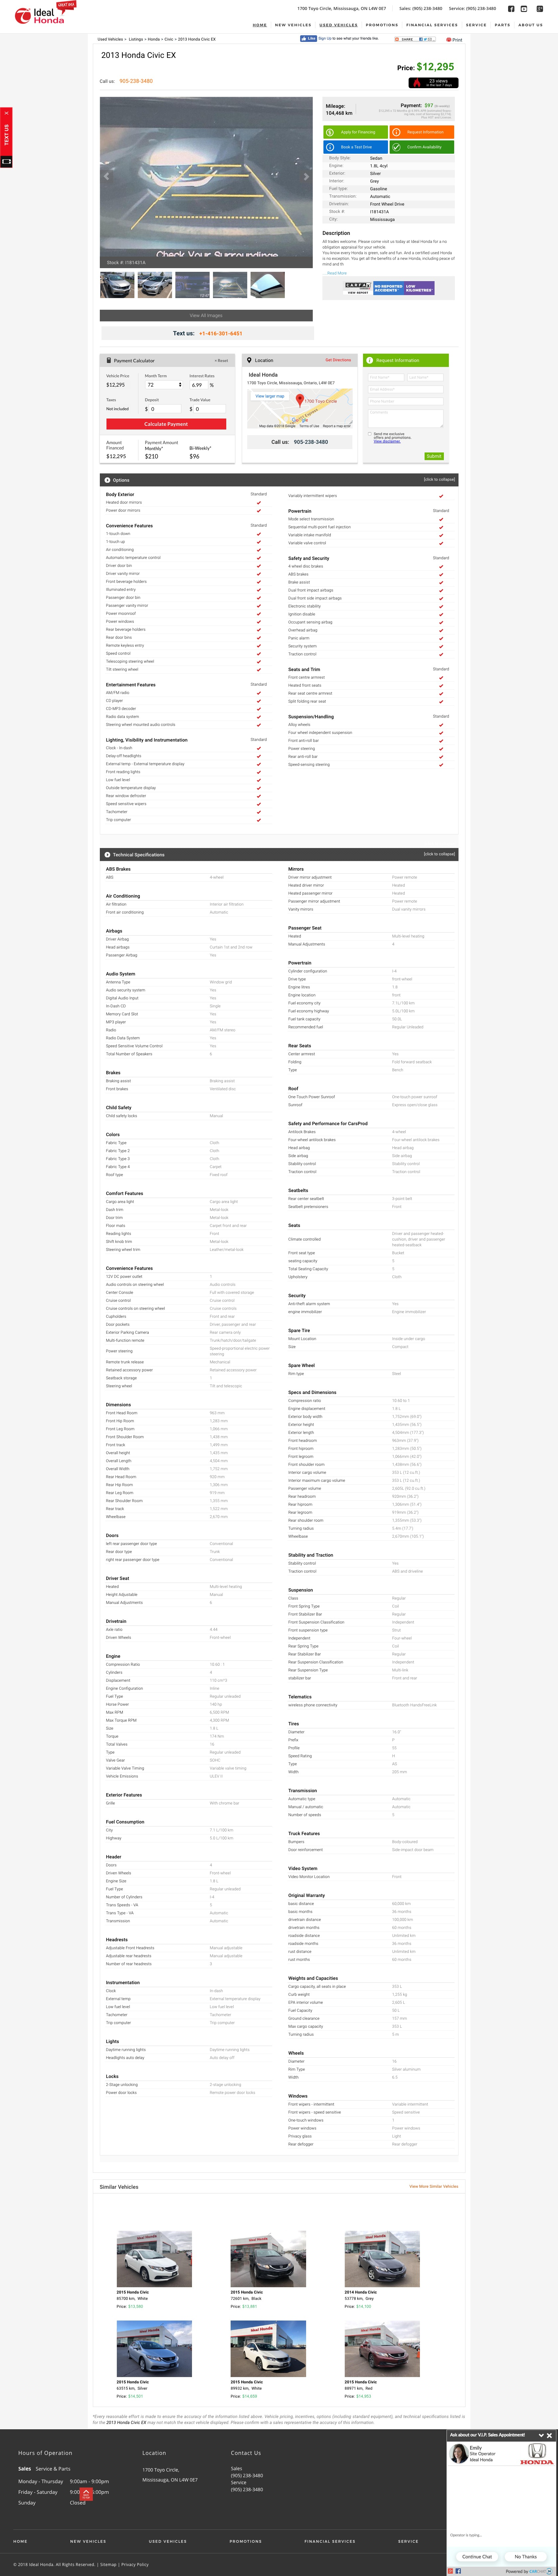car: (304, 172, 310, 181)
